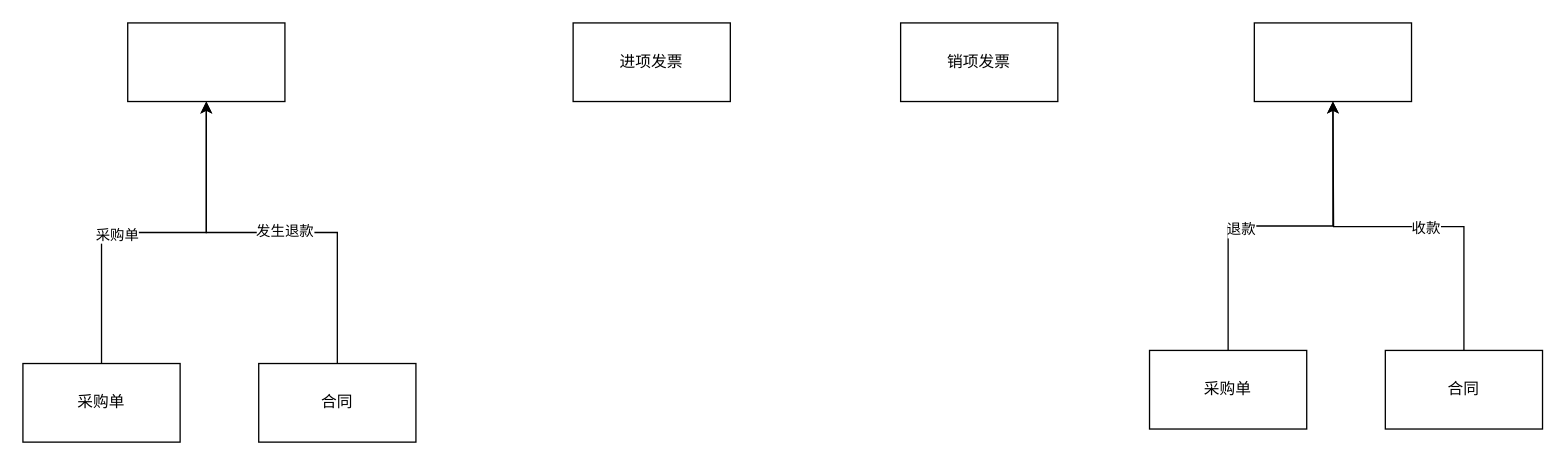
Some shapes in this 1565 by 465 pixel diagram are drawn without their labels. Here are the shapes that lost their labels. From the top down, the box of each, then its label:
(126, 22, 285, 102): 付款单
(1253, 22, 1412, 102): 收款单
